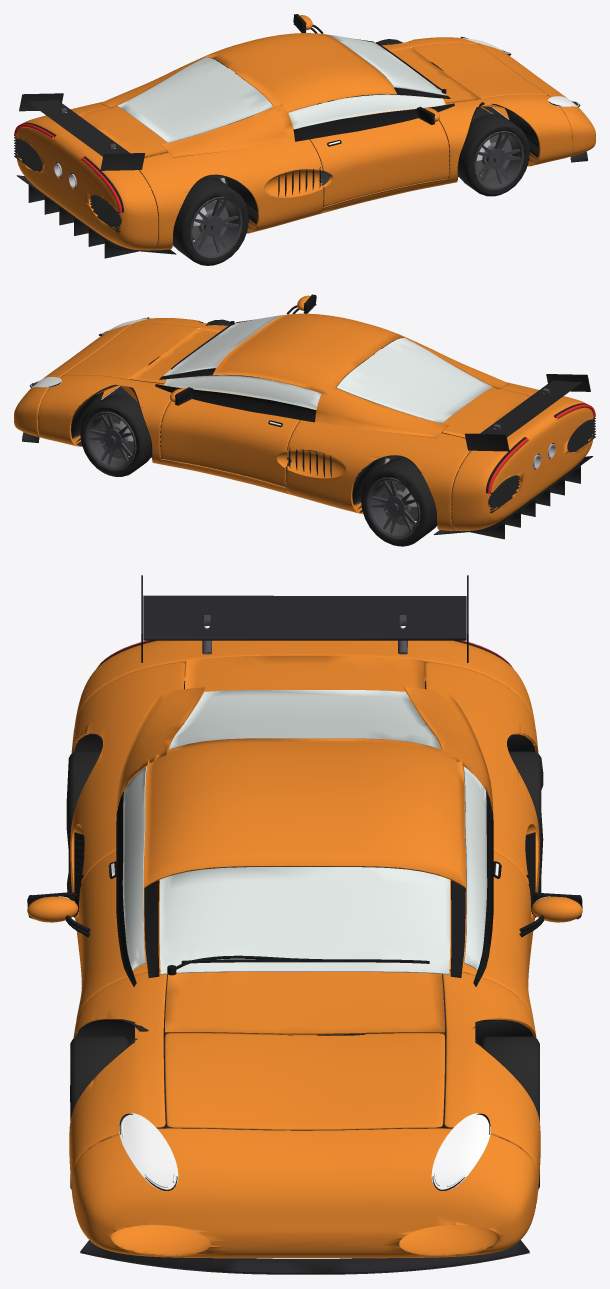
The model's file is Car2.fbx.
3 renders of one model, top to bottom at view 1: azimuth 30°, elevation 25°; view 2: azimuth 150°, elevation 25°; view 3: azimuth 270°, elevation 25°, orthographic. The views are drawn at different scales.
Visible parts, largest first — view 1: Body, Wheel_RR.001, Wheel_FR.001; view 2: Body, Wheel_RL.001, Wheel_FL.001; view 3: Body, Wheel_FL.001, Wheel_FR.001, Wheel_RR.001, Wheel_RL.001.
Part boxes in pixels (bbox=[...]): Body: bbox=[14, 14, 595, 258]; Wheel_RR.001: bbox=[172, 176, 248, 265]; Wheel_FR.001: bbox=[457, 114, 529, 196]; Body: bbox=[14, 294, 595, 539]; Wheel_RL.001: bbox=[361, 457, 437, 546]; Wheel_FL.001: bbox=[80, 394, 151, 476]; Body: bbox=[27, 575, 582, 1274]; Wheel_FL.001: bbox=[480, 1036, 539, 1189]; Wheel_FR.001: bbox=[70, 1036, 129, 1189]; Wheel_RR.001: bbox=[66, 751, 101, 917]; Wheel_RL.001: bbox=[509, 751, 543, 917].
Bounding box in the file's own units: 4.66 × 1.2 × 2.27.
